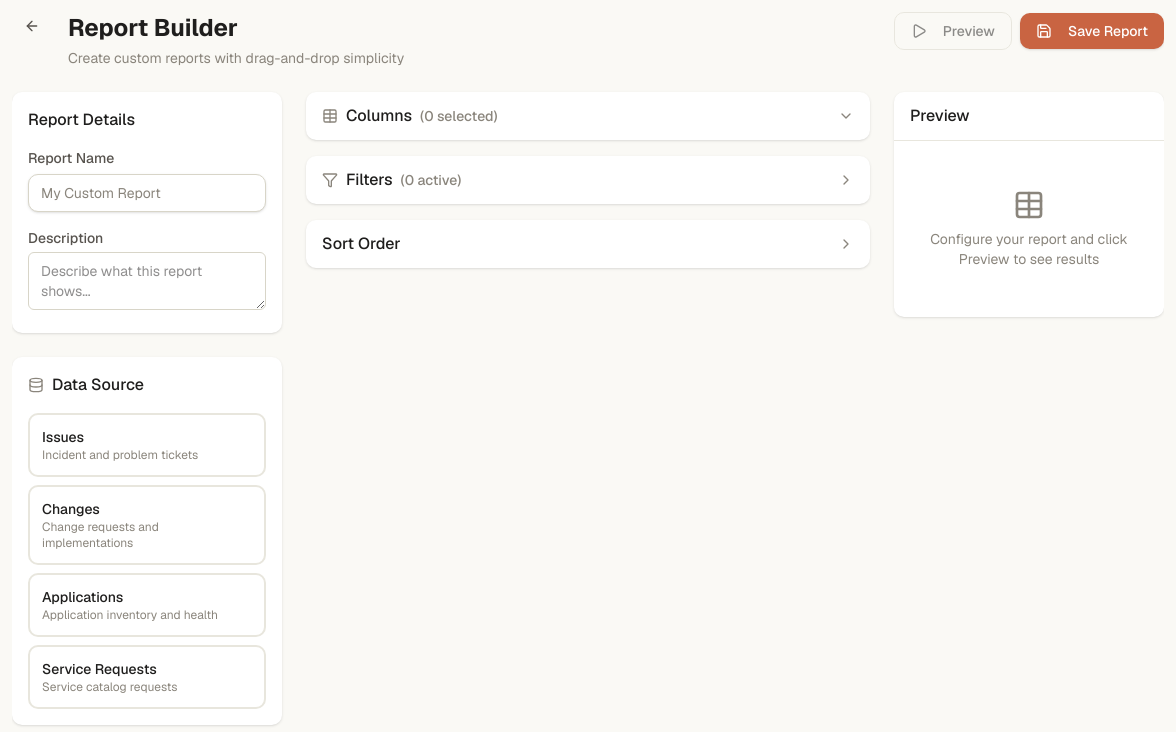
Test: ReportBuilderPage › Columns Section › shows aggregation dropdown for aggregatable fields
Click the button "Issues Incident and problem tickets". click: (147, 445)
box: x1=28 y1=413 x2=266 y2=477
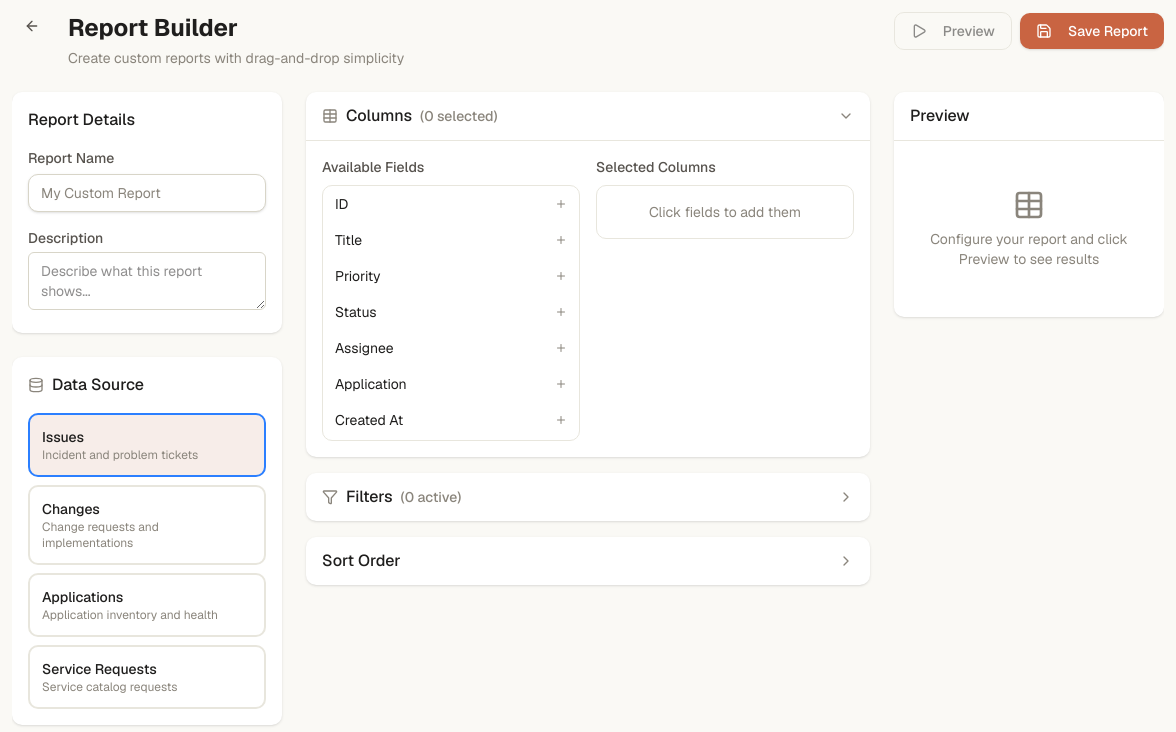
// Add an aggregatable field
Click the button "Priority". click: (451, 276)
box: x1=323 y1=258 x2=579 y2=294
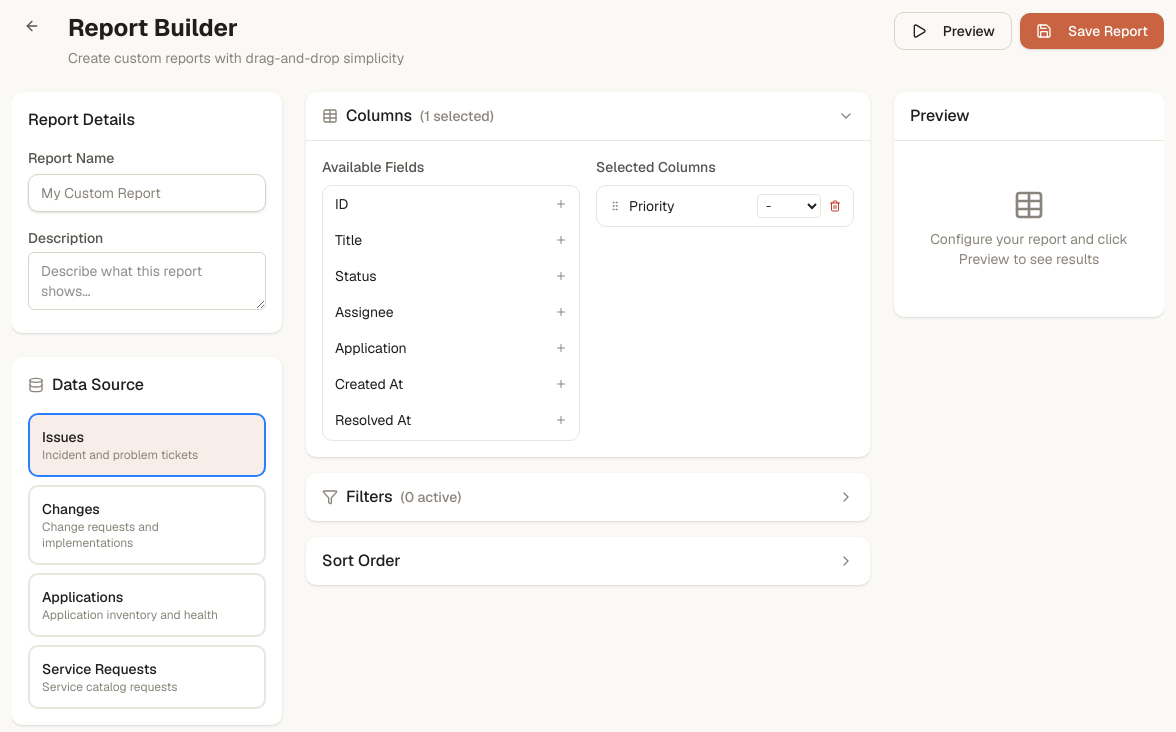
Result: the dropdown is shown at x1=757 y1=194 x2=821 y2=218
